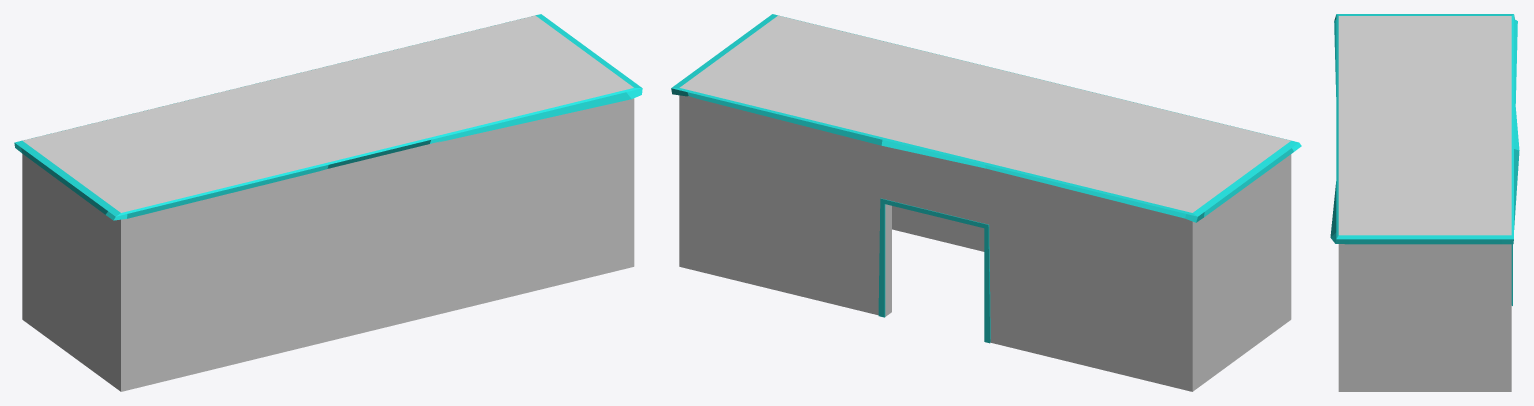
File: TestHouse.fbx
3 renders of one model, left to right at view 1: azimuth 30°, elevation 25°; view 2: azimuth 150°, elevation 25°; view 3: azimuth 270°, elevation 25°, orthographic. The views are drawn at different scales.
Visible parts, largest first — view 1: House; view 2: House; view 3: House.
Part boxes in pixels (x1,y1,x2,y2): House: (14,14,642,391); House: (671,14,1301,391); House: (1330,14,1519,391).
Size of the model in its own units: 619 by 200 by 219.
